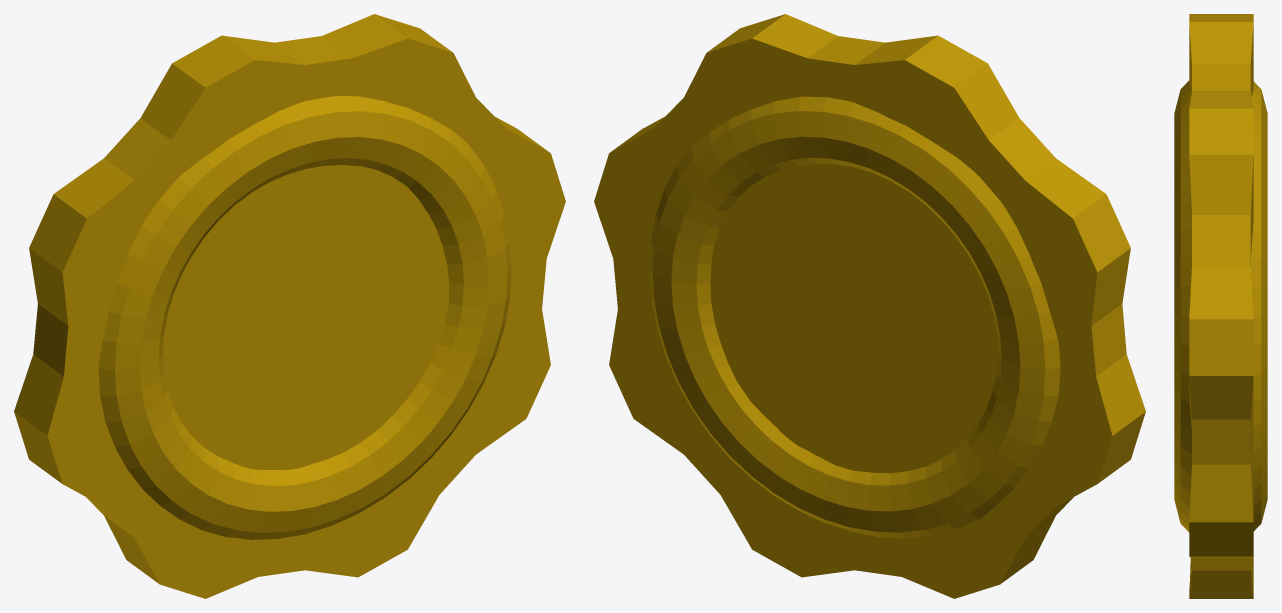
The model's file is Coin.fbx.
The picture shows the model from 3 angles, left to right: view 1: azimuth 30°, elevation 25°; view 2: azimuth 150°, elevation 25°; view 3: azimuth 270°, elevation 25°; orthographic projection. The views are drawn at different scales.
Visible parts, largest first — view 1: Cylinder; view 2: Cylinder; view 3: Cylinder.
Part boxes in pixels (x1,y1,x2,y2): Cylinder: (14, 14, 565, 598); Cylinder: (594, 14, 1145, 598); Cylinder: (1174, 14, 1267, 598).
Bounding box in the file's own units: 194 × 194 × 31.55.
